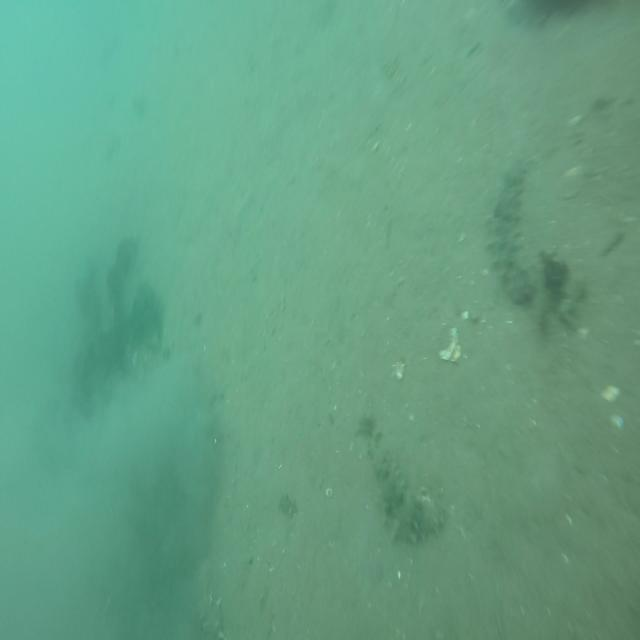holothurian: (484, 161, 541, 307), (370, 450, 448, 548)
